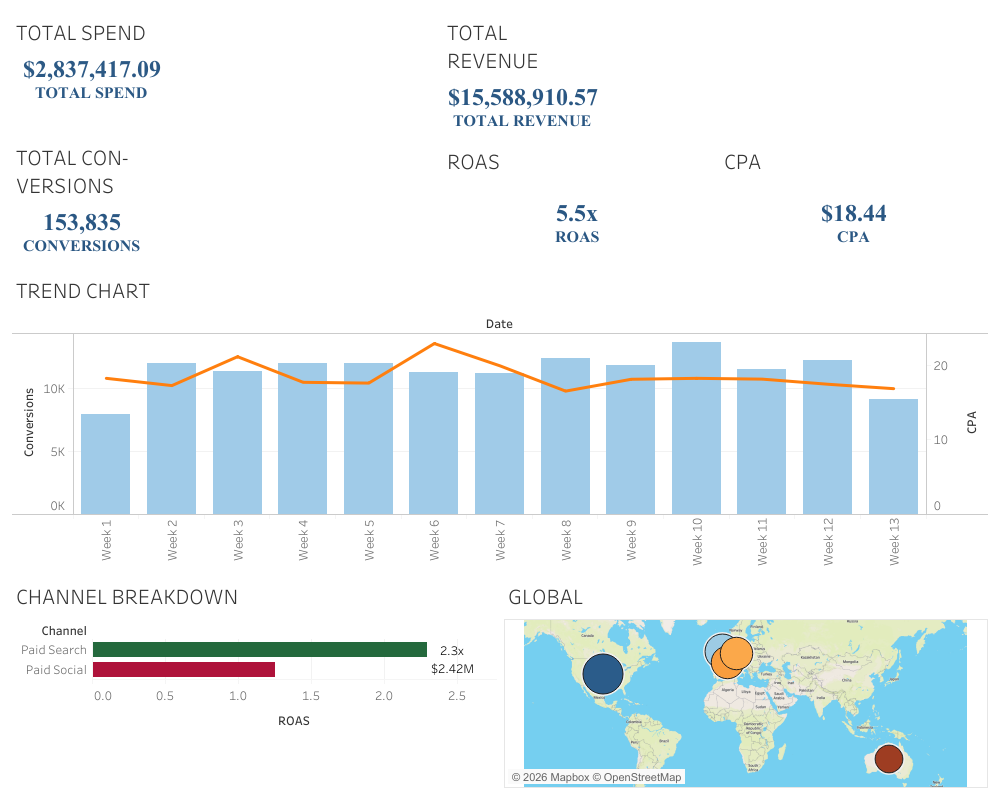

This screenshot's page, from the dashboard's own definition file:
{"tool":"tableau","page":{"name":"KPI OVERVIEW","canvas":[1000,800],"ordinal":0},"visuals":[{"type":"worksheet","title":"TOTAL SPEND","mark":"Automatic","box":[8,8,431.4,124.5]},{"type":"worksheet","title":"TOTAL REVENUE","mark":"Automatic","box":[439.4,8,552.6,129]},{"type":"worksheet","title":"TOTAL CONVERSIONS","mark":"Automatic","box":[8,132.5,431.4,133.5]},{"type":"worksheet","title":"ROAS","mark":"Automatic","box":[439.4,137,276.3,129]},{"type":"worksheet","title":"CPA","mark":"Automatic","box":[715.7,137,276.3,129]},{"type":"worksheet","title":"TREND CHART","mark":"Automatic","rows":["conversions","Calculation_0319300579262464"],"cols":["date"],"box":[8,266,984,306.5]},{"type":"worksheet","title":"CHANNEL BREAKDOWN","mark":"Automatic","rows":["channel"],"cols":["Calculation_0319300579905540"],"box":[8,572.5,492,219.5]},{"type":"worksheet","title":"GLOBAL","mark":"Automatic","box":[500,572.5,492,219.5]}]}

Visuals, with their boxes in screenshot pixels (x1, y1, x2, y2), scaled from the page's 1000x800 canvas onto the 999x799 screenshot:
"TOTAL SPEND" worksheet: box(8, 8, 439, 132)
"TOTAL REVENUE" worksheet: box(439, 8, 991, 137)
"TOTAL CONVERSIONS" worksheet: box(8, 132, 439, 266)
"ROAS" worksheet: box(439, 137, 715, 266)
"CPA" worksheet: box(715, 137, 991, 266)
"TREND CHART" worksheet: box(8, 266, 991, 572)
"CHANNEL BREAKDOWN" worksheet: box(8, 572, 500, 791)
"GLOBAL" worksheet: box(500, 572, 991, 791)
